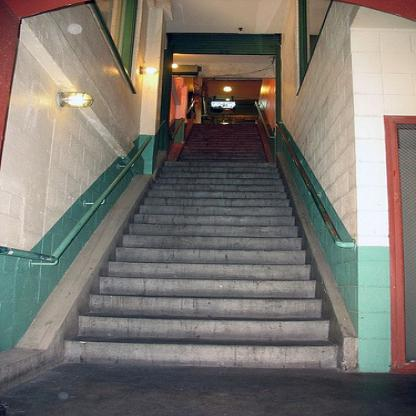stairs: (119, 227, 295, 368)
